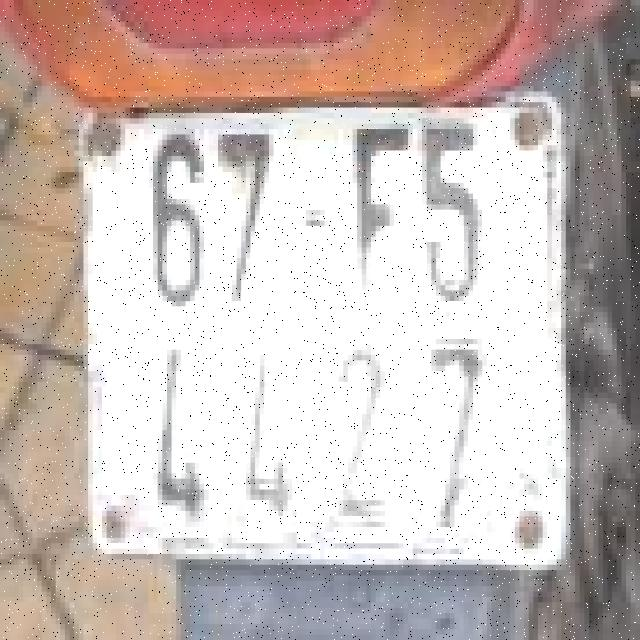2: (327, 328, 406, 538)
4: (132, 320, 206, 530), (234, 333, 299, 538)
5: (410, 105, 490, 314)
6: (130, 129, 213, 312)
7: (417, 323, 501, 543), (204, 110, 278, 315)
F: (339, 100, 408, 309)
